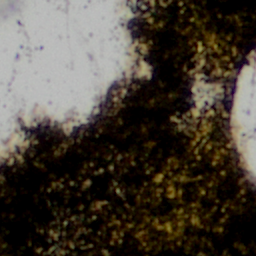cement_matrix: (0, 0, 255, 255), (190, 70, 224, 119)
gravel_crushed_stones: (0, 0, 150, 163), (233, 57, 255, 178), (191, 71, 223, 118)
